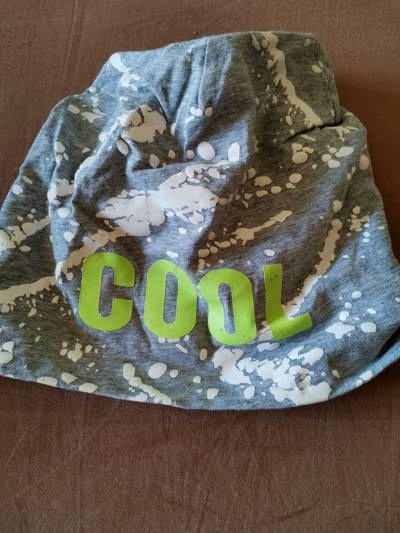Hat: (1, 26, 394, 422)
